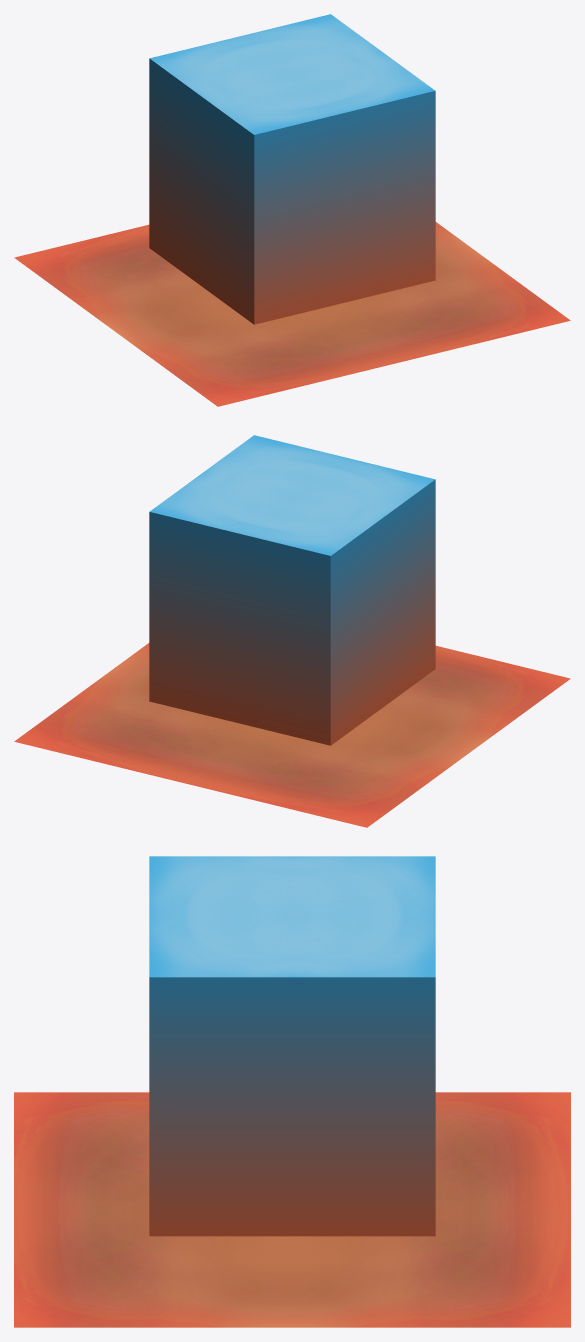
The model's file is WorldBoxA02.fbx.
The picture shows the model from 3 angles, top to bottom: view 1: azimuth 30°, elevation 25°; view 2: azimuth 150°, elevation 25°; view 3: azimuth 270°, elevation 25°; orthographic projection. The views are drawn at different scales.
Visible parts, largest first — view 1: WorldBoxA1; view 2: WorldBoxA1; view 3: WorldBoxA1.
Part boxes in pixels (x1,y1,x2,y2): WorldBoxA1: [14, 14, 570, 406]; WorldBoxA1: [14, 435, 570, 827]; WorldBoxA1: [14, 856, 570, 1327].
Bounding box in the file's own units: 1168 × 678 × 1168.
Materials: 1 (1 with a texture image).
